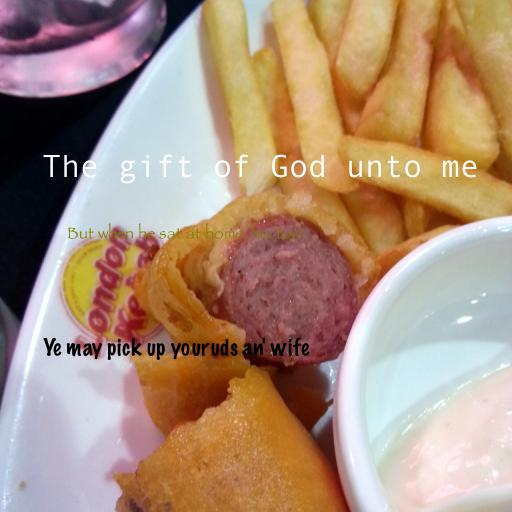Andale Mono: (41, 154, 479, 184)
Marker Felt: (43, 337, 309, 360)
Papyrus: (66, 223, 302, 242)
